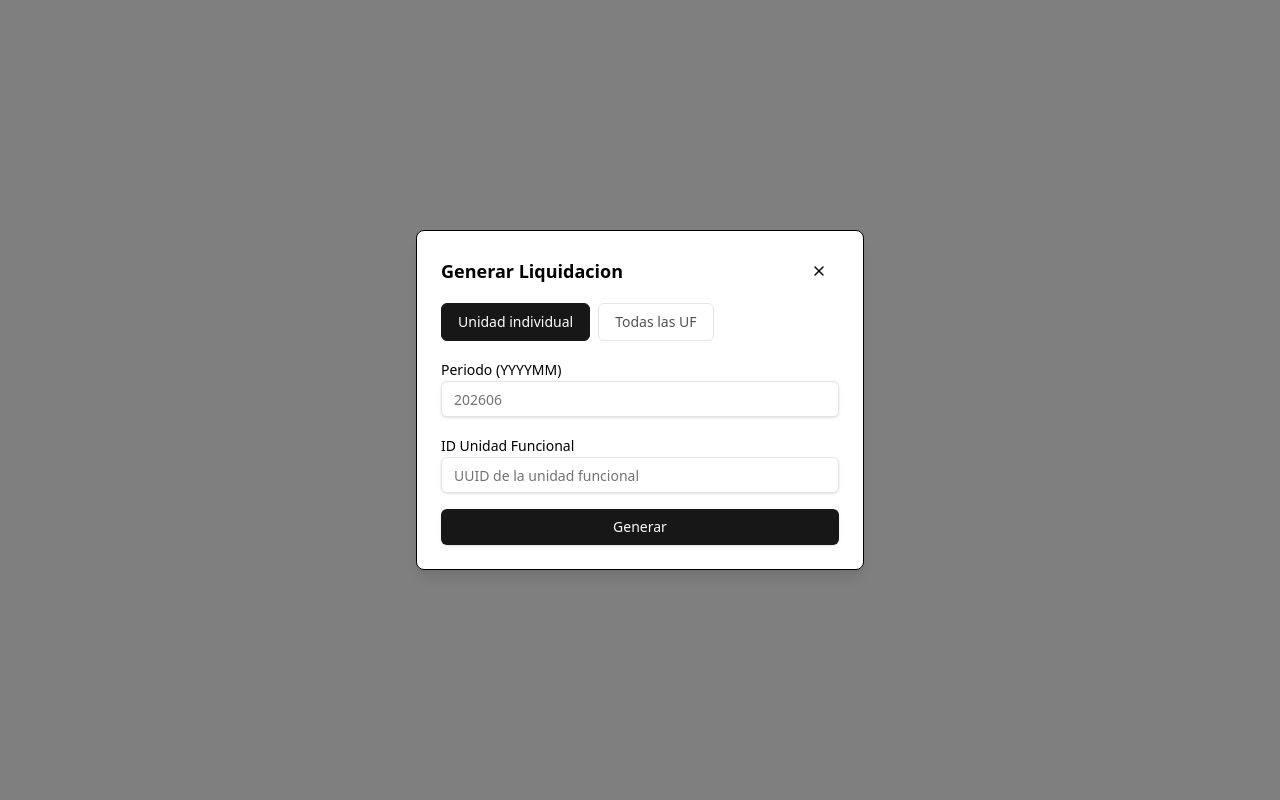
Test: GenerateModal › [@display] shows batch mode info when switching to batch tab
Click the button "Todas las UF": (656, 322) [598,303,714,341]
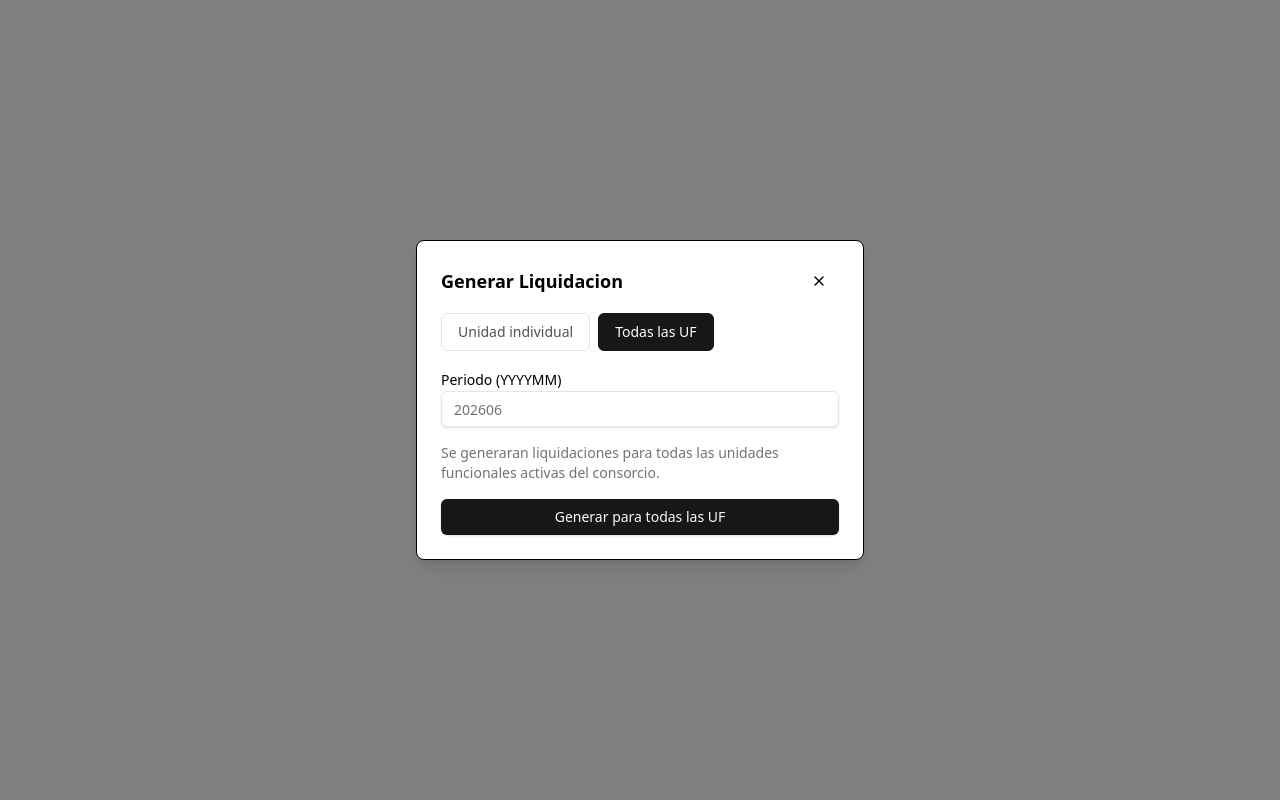
Result: the text "Se generaran liquidaciones para todas las unidades funcionales activas del consorcio." is shown at [441,443,779,482]
Result: the button "Generar para todas las UF" is shown at [441,499,839,535]
